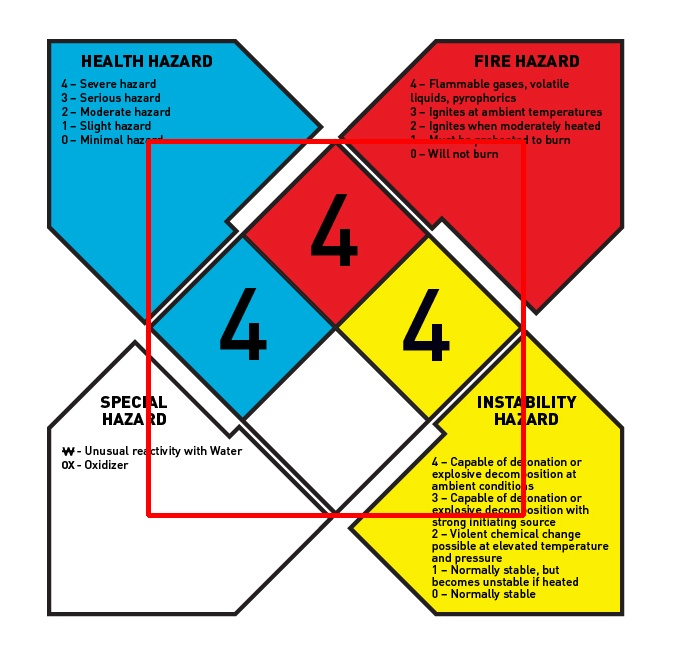nfpa: (148, 141, 523, 515)
